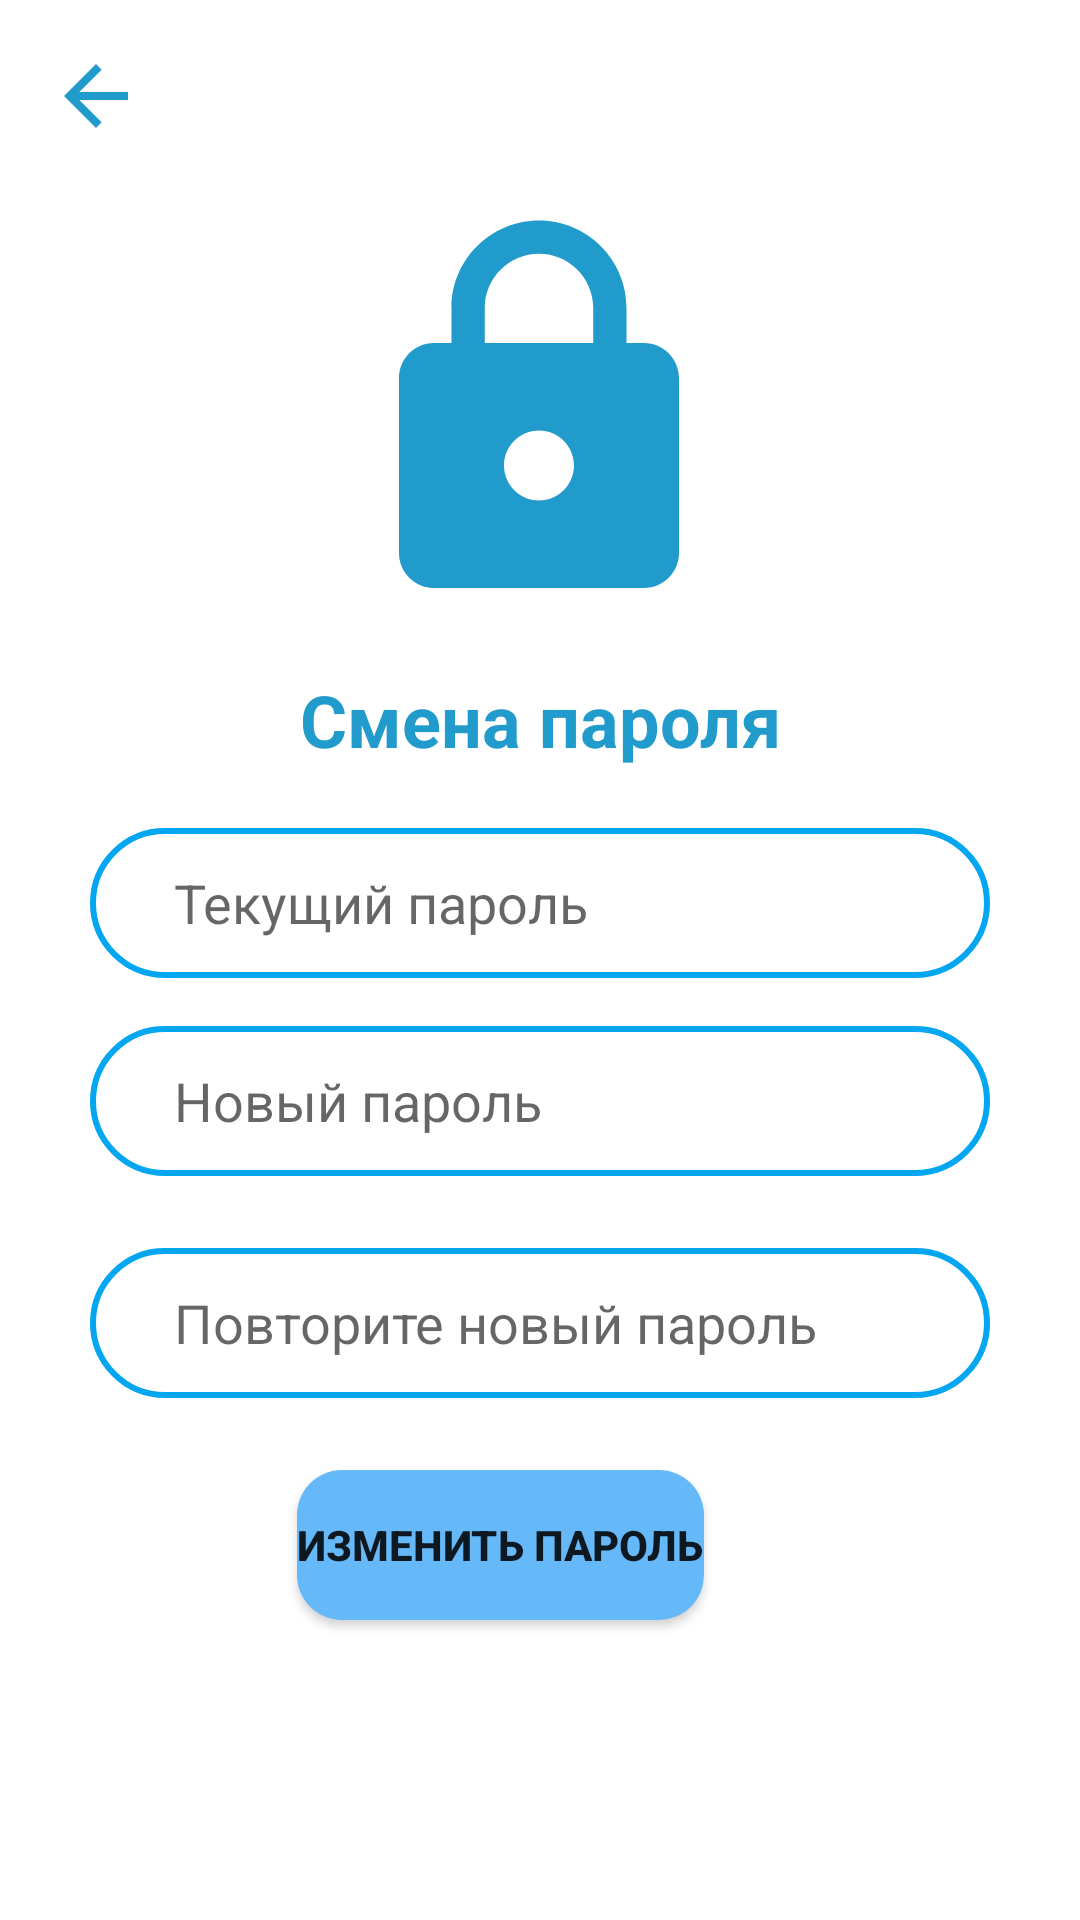

Screen size 1080w x 1920h. Icon name, then its box in pixels as bbox=[x1, y1, x2, y2]:
back: bbox=[64, 64, 128, 128]
